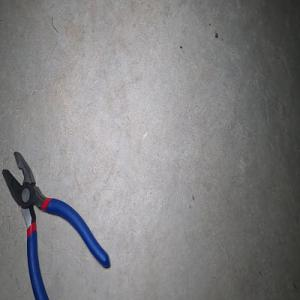Pliers: (1, 151, 110, 300)
